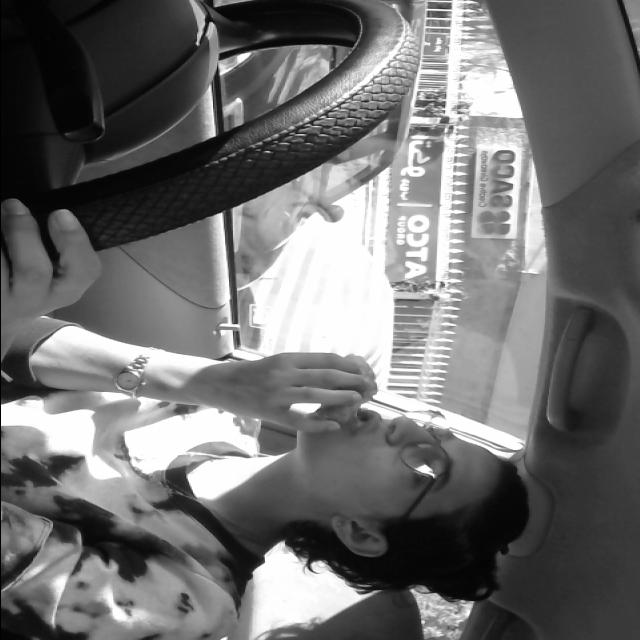eating: (299, 350, 395, 436)
